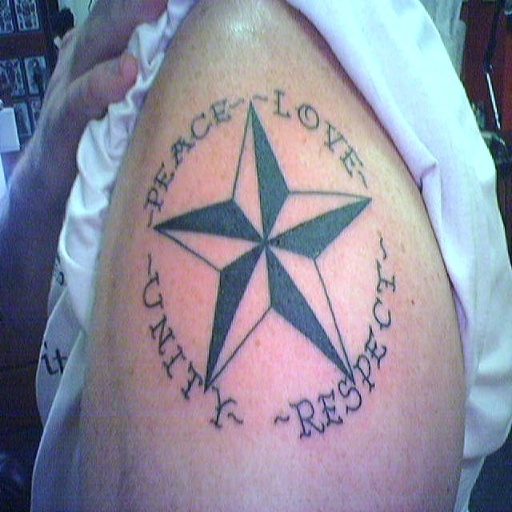hand: (16, 0, 164, 204)
